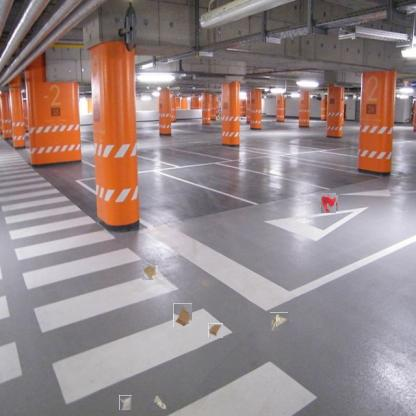dirty: (173, 303, 192, 327), (270, 313, 289, 331), (208, 323, 223, 338), (151, 395, 167, 409), (119, 395, 132, 410)
liquid: (319, 194, 337, 212), (142, 264, 158, 280)
